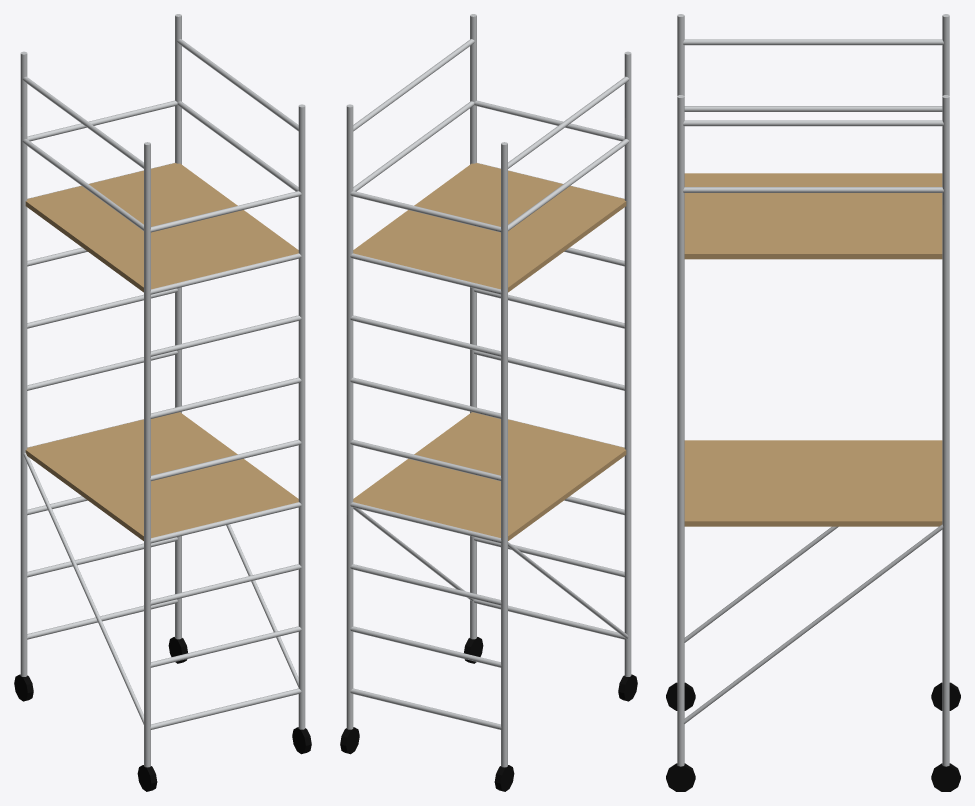
File: plant.access.tower.glb
The picture shows the model from 3 angles, left to right: view 1: azimuth 30°, elevation 25°; view 2: azimuth 150°, elevation 25°; view 3: azimuth 270°, elevation 25°; orthographic projection. The views are drawn at different scales.
Parts seen in each view (by area): view 1: main__plywood, main__aluminium, main__rubber; view 2: main__plywood, main__aluminium, main__rubber; view 3: main__plywood, main__aluminium, main__rubber.
Part boxes in pixels (bbox=[...]): main__plywood: bbox=[25, 163, 298, 540]; main__aluminium: bbox=[20, 14, 305, 767]; main__rubber: bbox=[14, 637, 311, 791]; main__plywood: bbox=[353, 163, 626, 540]; main__aluminium: bbox=[346, 14, 631, 767]; main__rubber: bbox=[340, 637, 637, 791]; main__plywood: bbox=[684, 173, 942, 526]; main__aluminium: bbox=[677, 14, 949, 766]; main__rubber: bbox=[666, 682, 960, 791].
Bounding box in the file's own units: 1.35 × 5.2 × 2.
